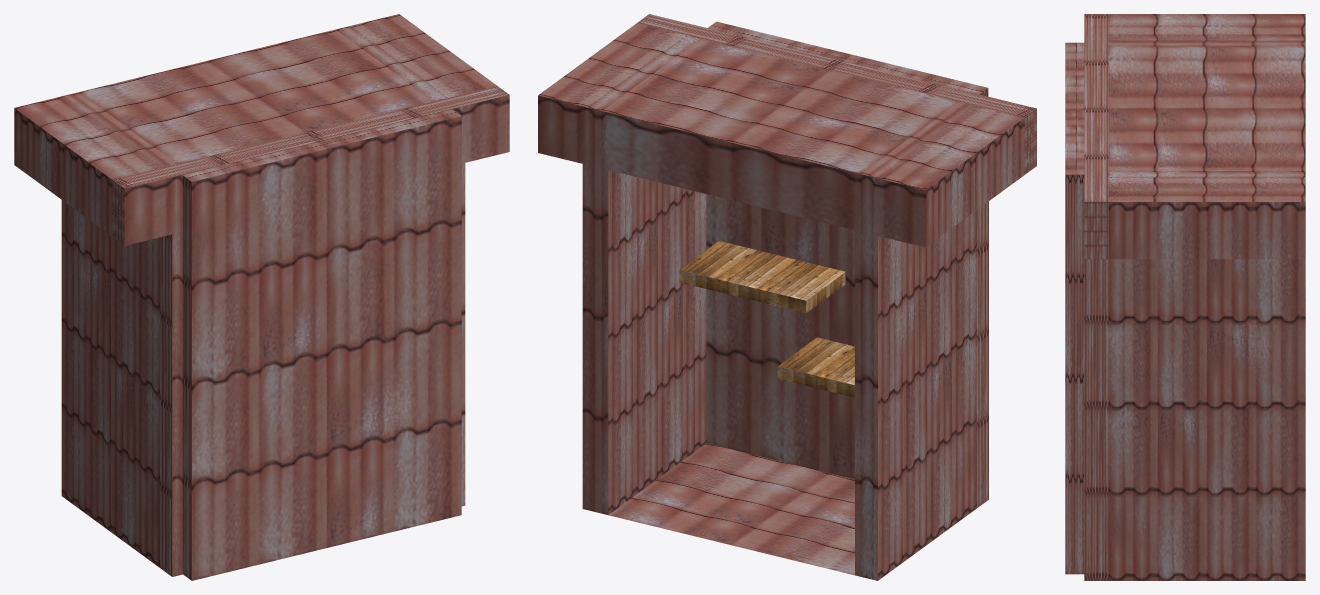
File: 小屋っぽいもの.fbx
3 renders of one model, left to right at view 1: azimuth 30°, elevation 25°; view 2: azimuth 150°, elevation 25°; view 3: azimuth 270°, elevation 25°, orthographic.
Visible parts, largest first — view 1: 立方体_7; view 2: 立方体_7; view 3: 立方体_7.
Part boxes in pixels (<box>): 立方体_7: <box>14,14,509,580</box>; 立方体_7: <box>538,14,1036,580</box>; 立方体_7: <box>1065,14,1305,580</box>.
Bounding box in the file's own units: 452 × 449 × 244.
2 materials, 2 textured.
